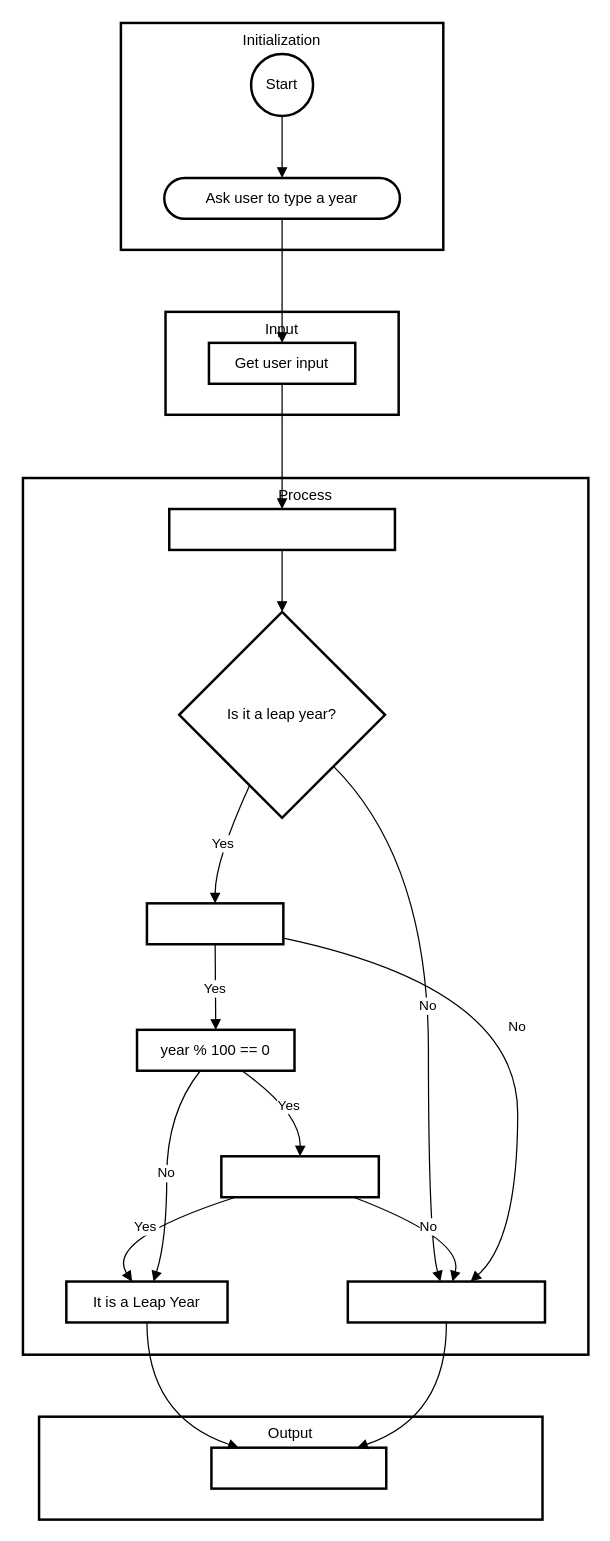
Some shapes in this 610 by 1541 pixel diagram are drawn without their labels. The centre of each missing label's shape, as x and y in pixels:
Display the result: (298,1467)
It is not a Leap Year: (446,1301)
Validate the input year: (281,529)
year % 4 == 0: (214,923)
year % 400 == 0: (299,1176)
